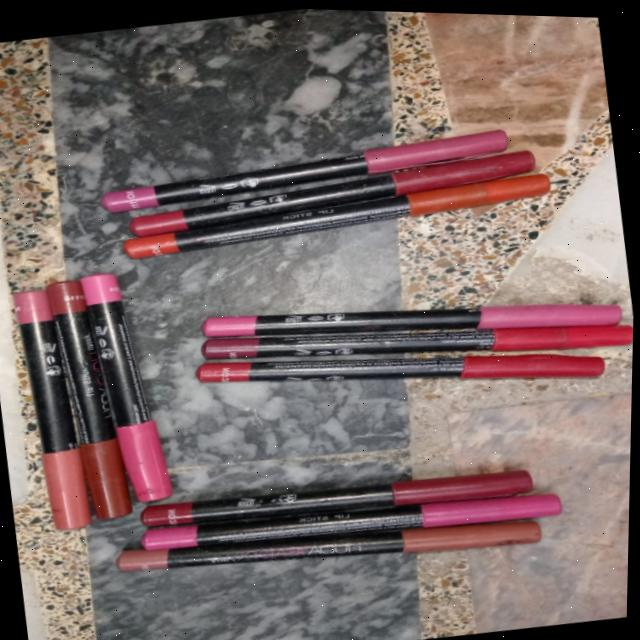lip liner: (170, 301, 610, 442), (192, 243, 630, 384), (194, 274, 635, 412), (115, 153, 568, 279), (95, 100, 522, 230), (118, 125, 548, 252), (101, 489, 568, 602), (133, 470, 578, 573), (135, 452, 556, 544), (71, 254, 187, 514), (0, 277, 113, 540), (36, 262, 140, 527)
